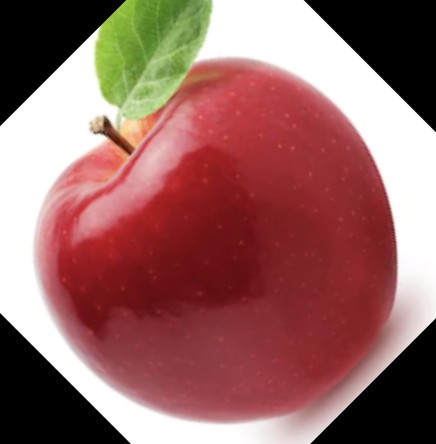fresh_apple: (37, 58, 397, 422)
